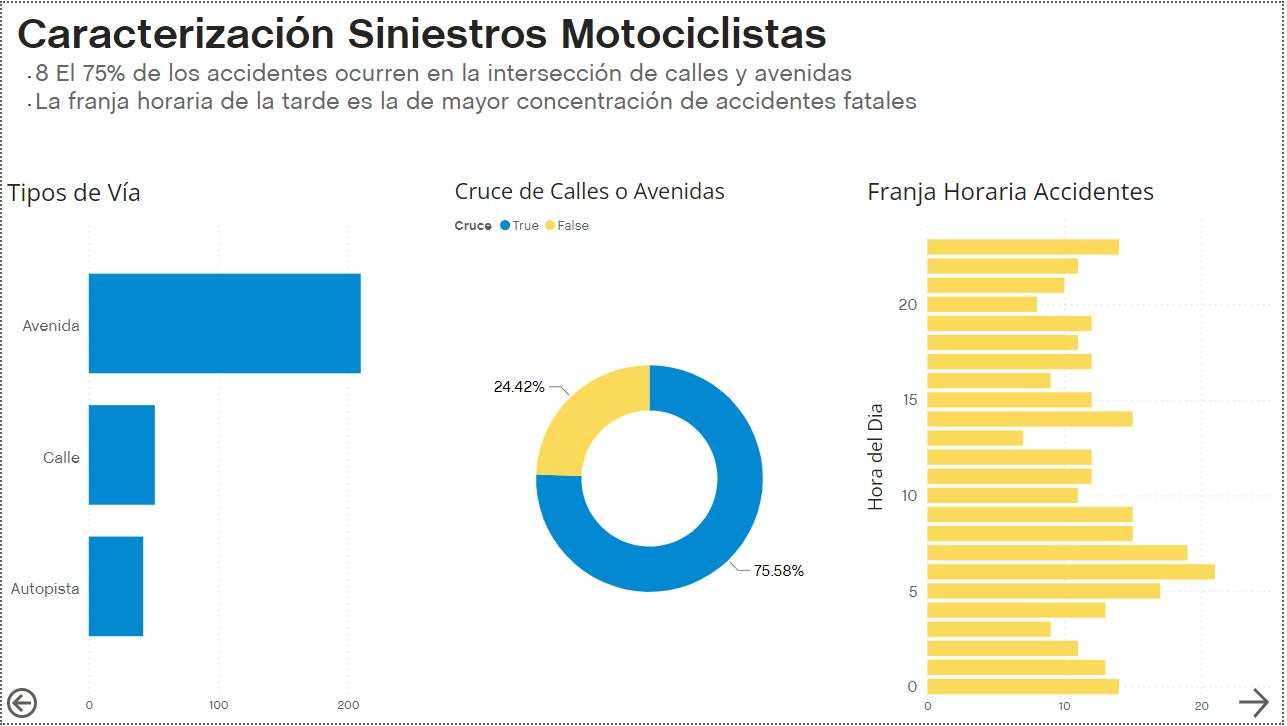

This screenshot's page, from the dashboard's own definition file:
{"tool":"powerbi","page":{"name":"Motociclistas y Peatones","canvas":[1280,720],"ordinal":3},"visuals":[{"type":"textbox","box":[10.3,0,1270,143.7],"z":0},{"type":"donutChart","title":"Cruce de Calles o Avenidas","fields":{"Y":["Sum(proyecto_individual_02 victimas.Cantidad_victimas)"],"Category":["proyecto_individual_02 victimas.bool_cruce"]},"box":[447.3,173.1,400.4,547],"z":1000},{"type":"barChart","title":"Tipos de Vía","fields":{"Category":["proyecto_individual_02 victimas.tipo_calle"],"Y":["Sum(proyecto_individual_02 victimas.Cantidad_victimas)"]},"box":[0,173.1,426.8,547],"z":2000},{"type":"clusteredBarChart","title":"Franja Horaria Accidentes","fields":{"Category":["proyecto_individual_02 victimas.Hora_int"],"Y":["Sum(proyecto_individual_02 victimas.Cantidad_victimas)"]},"box":[859.4,171.6,420.9,548.5],"z":3000},{"type":"actionButton","box":[0,680,100,40],"z":3001},{"type":"actionButton","box":[1231.4,680,48.6,40],"z":3002}]}

Visuals, with their boxes in screenshot pixels (x1, y1, x2, y2), scaled from the page's 1280x720 canvas onto the 1287x726 screenshot:
textbox: [left=10, top=0, right=1286, bottom=145]
"Cruce de Calles o Avenidas" donutChart: [left=450, top=175, right=852, bottom=725]
"Tipos de Vía" barChart: [left=0, top=175, right=429, bottom=725]
"Franja Horaria Accidentes" clusteredBarChart: [left=864, top=173, right=1286, bottom=725]
actionButton: [left=0, top=686, right=101, bottom=725]
actionButton: [left=1238, top=686, right=1286, bottom=725]
